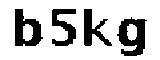5: (48, 6, 80, 52)
b: (11, 7, 44, 53)
g: (115, 13, 151, 60)
k: (82, 5, 114, 50)
